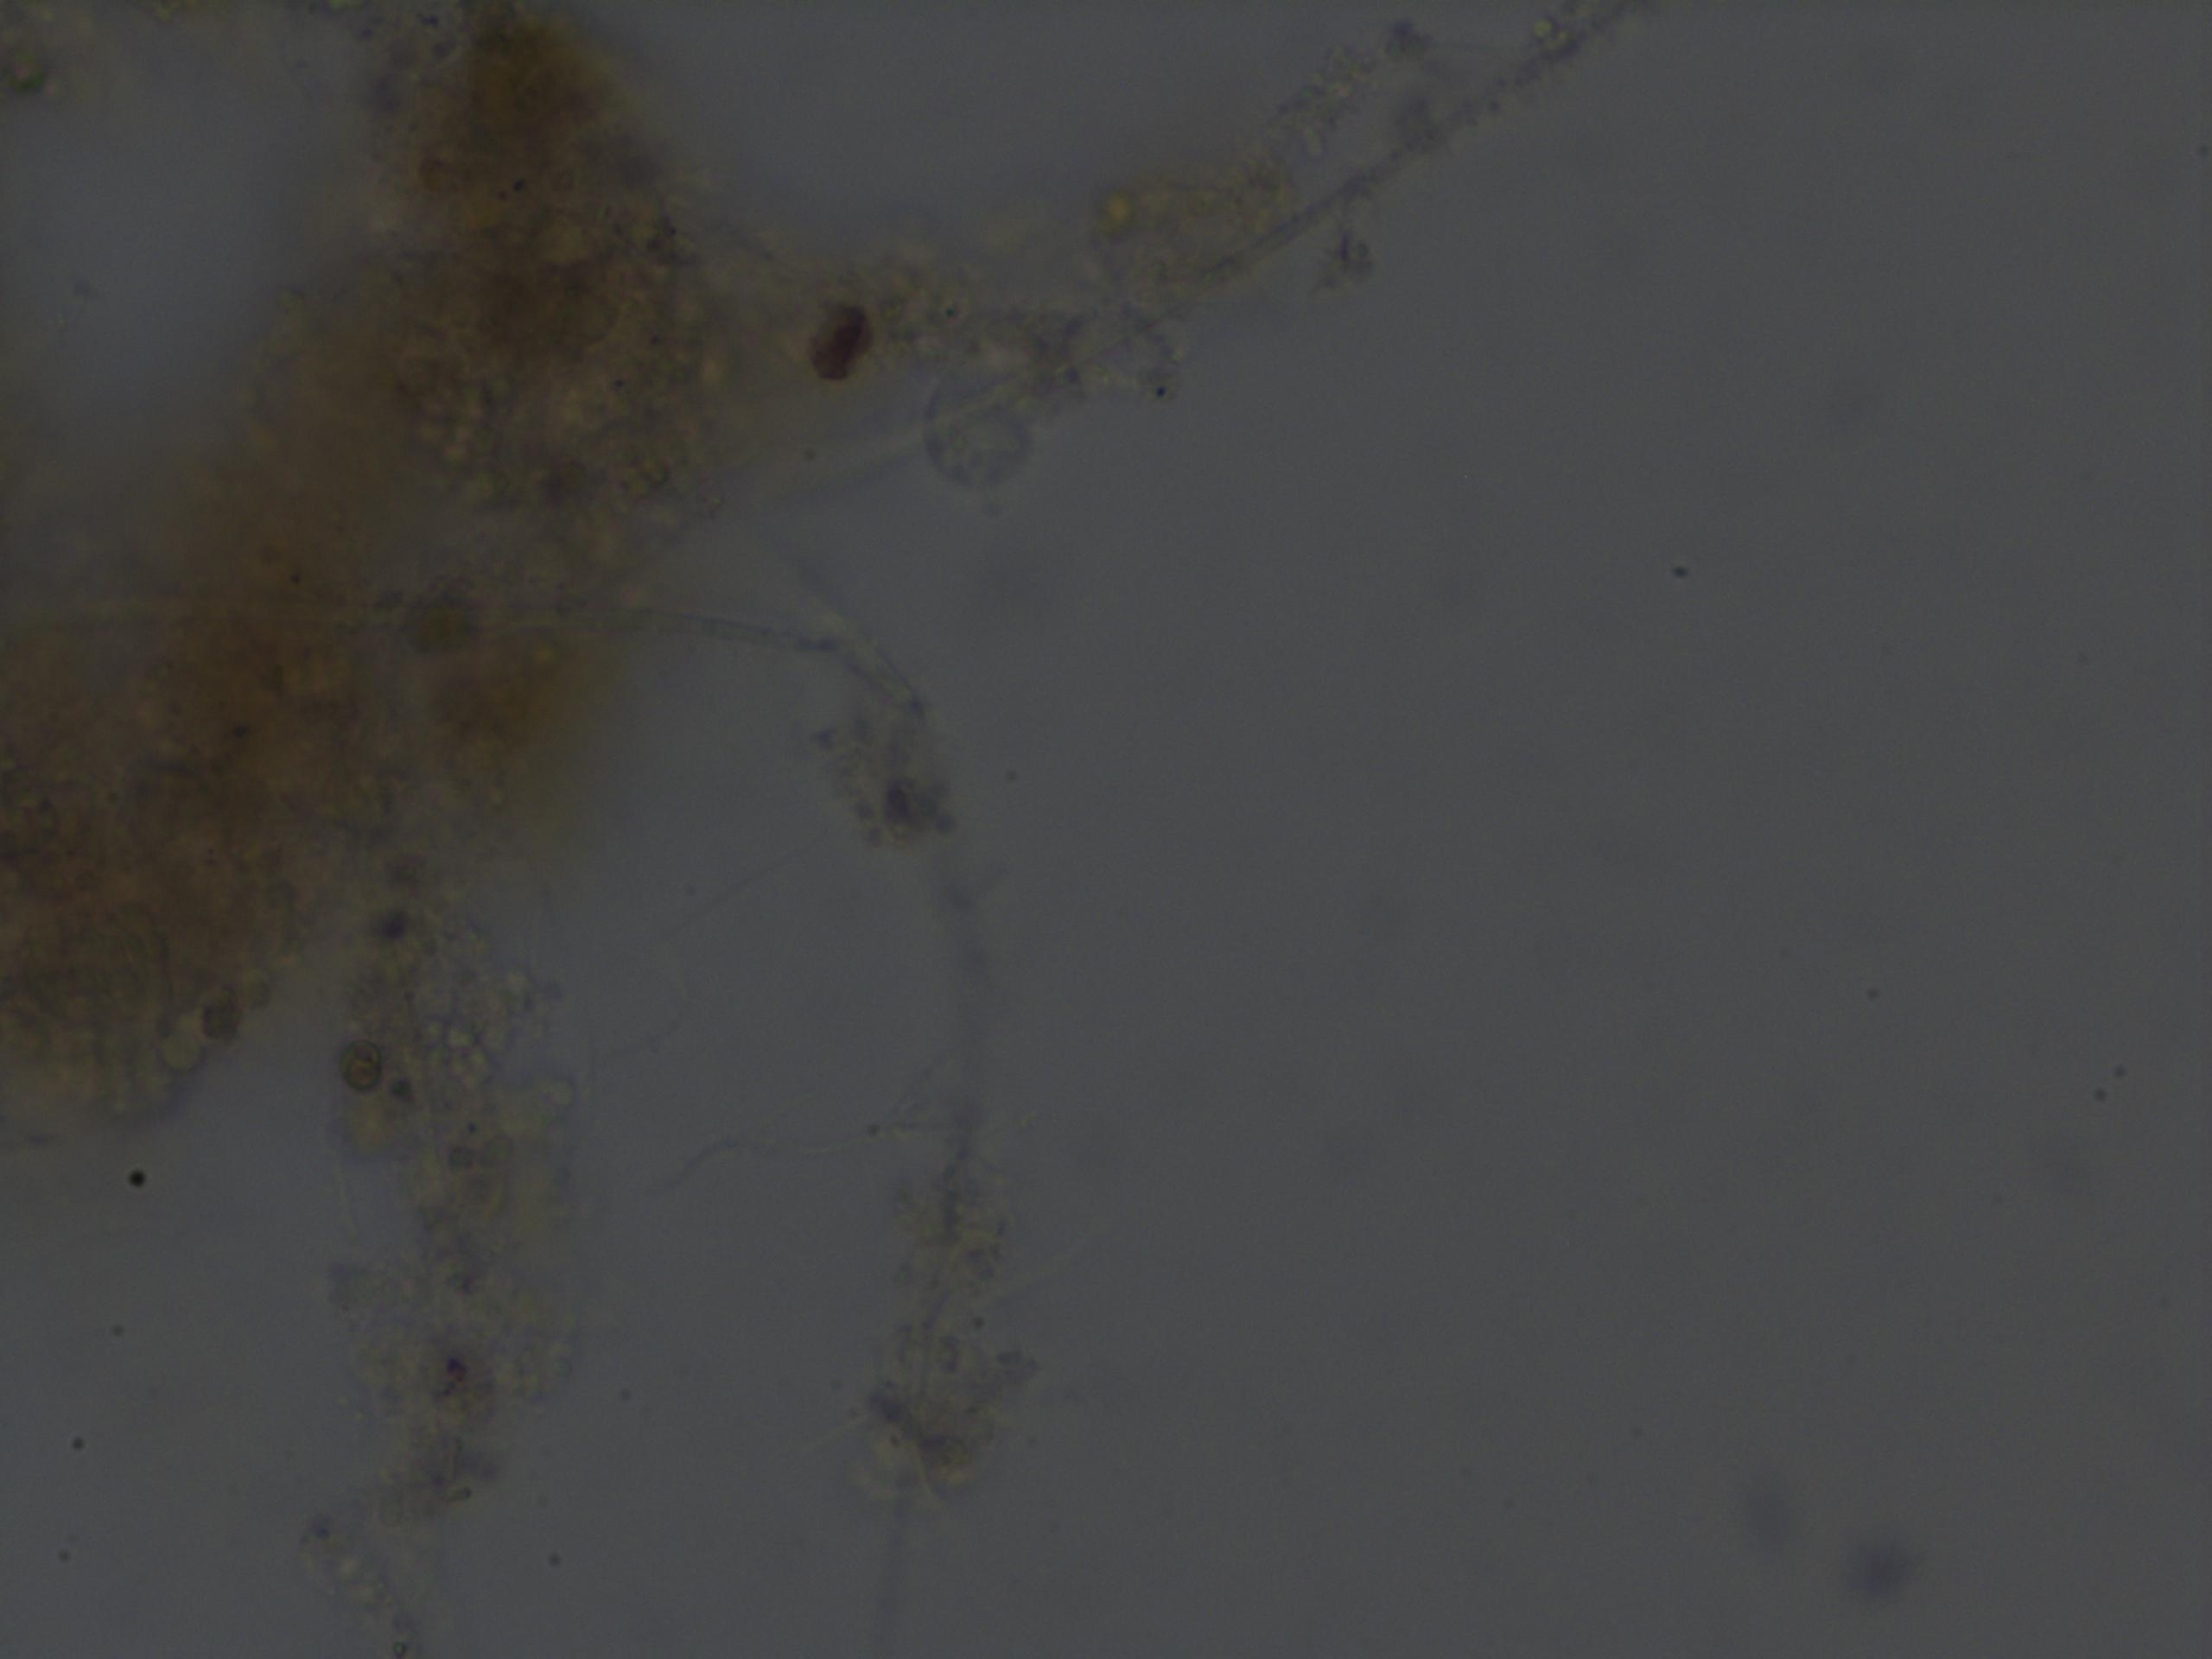filament: (810, 0, 1627, 500), (637, 589, 1007, 1659)
